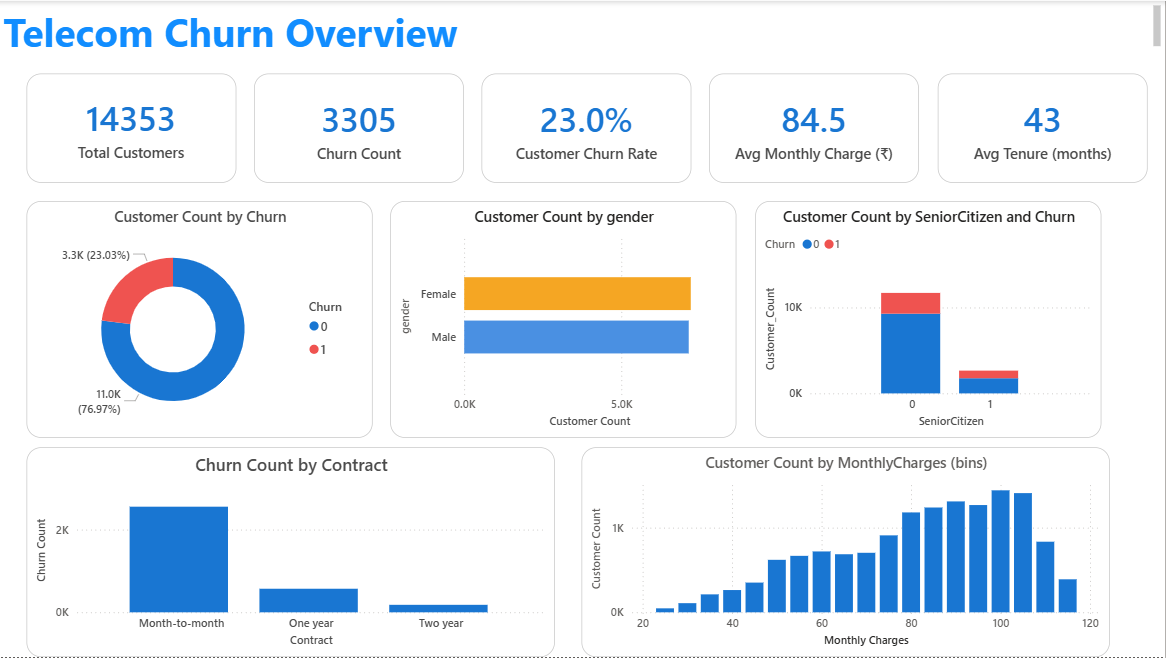

What the dashboard file says about the page in this screenshot:
{"tool":"powerbi","page":{"name":"Overview","canvas":[1280,720],"ordinal":0},"visuals":[{"type":"card","fields":{"Values":["CountNonNull(Telco-Customer-Churn.customerID)"]},"box":[30,80,230,120],"z":0},{"type":"textbox","box":[0,0,1280,60],"z":1000},{"type":"card","fields":{"Values":["Telco-Customer-Churn.Churn_Count"]},"box":[280,80,230,120],"z":2000},{"type":"card","fields":{"Values":["Telco-Customer-Churn.Customer_Churn_Rate"]},"box":[530,80,230,120],"z":3000},{"type":"card","fields":{"Values":["Telco-Customer-Churn.Average_Monthly_Charge"]},"box":[780,80,230,120],"z":4000},{"type":"card","fields":{"Values":["Telco-Customer-Churn.Avg_Tenure"]},"box":[1030,80,230,120],"z":5000},{"type":"donutChart","title":"Customer Count by Churn","fields":{"Y":["Telco-Customer-Churn.Customer_Count"],"Category":["Telco-Customer-Churn.Churn"]},"box":[30,220,380,260],"z":6000},{"type":"clusteredBarChart","fields":{"Y":["Telco-Customer-Churn.Customer_Count"],"Category":["Telco-Customer-Churn.gender"]},"box":[430,220,380,260],"z":7000},{"type":"columnChart","title":"Customer Count by SeniorCitizen and Churn","fields":{"Category":["Telco-Customer-Churn.SeniorCitizen"],"Y":["Telco-Customer-Churn.Customer_Count"],"Series":["Telco-Customer-Churn.Churn"]},"box":[830,220,380,260],"z":8000},{"type":"clusteredColumnChart","title":"Churn Count by Contract","fields":{"Category":["Telco-Customer-Churn.Contract"],"Y":["Telco-Customer-Churn.Churn_Count"]},"box":[30,490,580,230],"z":9000},{"type":"clusteredColumnChart","title":"Customer Count by MonthlyCharges (bins)","fields":{"Category":["Telco-Customer-Churn.MonthlyCharges (bins)"],"Y":["Telco-Customer-Churn.Customer_Count"]},"box":[640,490,580,230],"z":10000}]}

Visuals, with their boxes in screenshot pixels (x1, y1, x2, y2), scaled from the page's 1280x720 canvas onto the 1166x658 screenshot:
card - CountNonNull(Telco-Customer-Churn.customerID): (27,73,237,183)
textbox: (0,0,1165,55)
card - Telco-Customer-Churn.Churn_Count: (255,73,465,183)
card - Telco-Customer-Churn.Customer_Churn_Rate: (483,73,692,183)
card - Telco-Customer-Churn.Average_Monthly_Charge: (711,73,920,183)
card - Telco-Customer-Churn.Avg_Tenure: (938,73,1148,183)
"Customer Count by Churn" donutChart: (27,201,373,439)
clusteredBarChart - Telco-Customer-Churn.Customer_Count x Telco-Customer-Churn.gender: (392,201,738,439)
"Customer Count by SeniorCitizen and Churn" columnChart: (756,201,1102,439)
"Churn Count by Contract" clusteredColumnChart: (27,448,556,657)
"Customer Count by MonthlyCharges (bins)" clusteredColumnChart: (583,448,1111,657)
